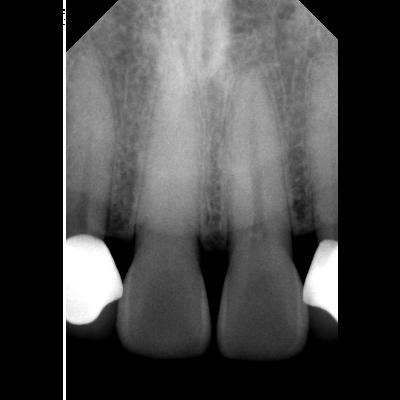tooth: (115, 40, 210, 360), (216, 58, 308, 364)
